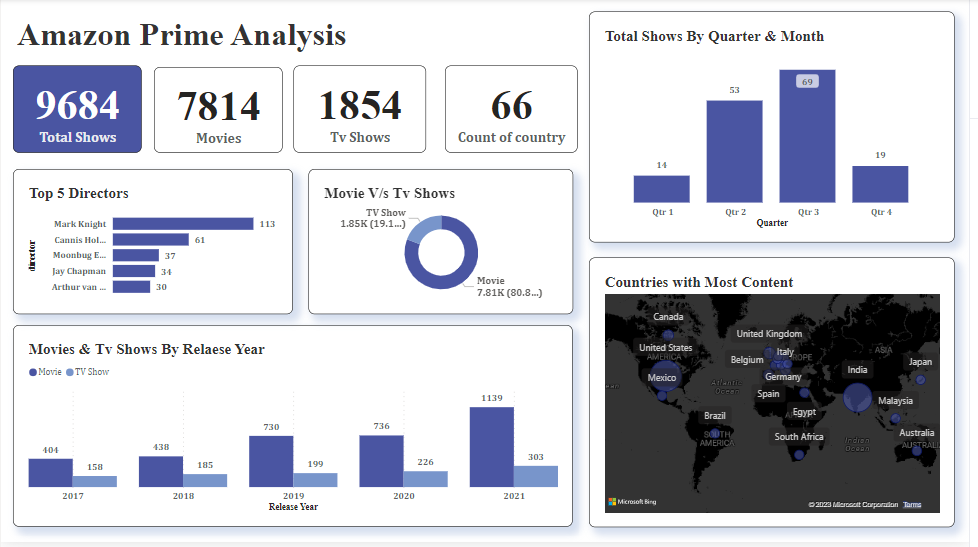

This screenshot's page, from the dashboard's own definition file:
{"tool":"powerbi","page":{"name":"1","canvas":[1280,720],"ordinal":0},"visuals":[{"type":"card","title":"Total Shows","fields":{"Values":["amazon_prime_titles.show_id"]},"box":[16.7,88.3,170,115],"z":0},{"type":"card","fields":{"Values":["amazon_prime_titles.type"]},"box":[201.7,91.7,170,113.3],"z":1000},{"type":"card","fields":{"Values":["amazon_prime_titles.type"]},"box":[386.7,90,175,115],"z":2000},{"type":"card","fields":{"Values":["amazon_prime_titles (2).country"]},"box":[586.7,90,175,115],"z":3000},{"type":"clusteredColumnChart","title":"Movies & Tv Shows By Relaese Year","fields":{"Category":["amazon_prime_titles.release_year"],"Y":["amazon_prime_titles.type"],"Series":["amazon_prime_titles.type"]},"box":[16.7,433.3,740,266.7],"z":4000},{"type":"lineClusteredColumnComboChart","title":"Total Shows By Quarter & Month","fields":{"Category":["amazon_prime_titles.date_added.Variation.Date Hierarchy.Quarter","amazon_prime_titles.date_added.Variation.Date Hierarchy.Month"],"Y":["amazon_prime_titles.show_id"]},"box":[778.3,18.3,483.3,305],"z":5000},{"type":"map","title":"Countries with Most Content","fields":{"Size":["amazon_prime_titles.show_id"],"Category":["amazon_prime_titles (2).country"]},"box":[778.3,343.3,483.3,356.7],"z":6000},{"type":"clusteredBarChart","title":"Top 5 Directors","fields":{"Y":["amazon_prime_titles.show_id"],"Category":["amazon_prime_titles.director"]},"box":[16.7,226.7,370,191.7],"z":7000},{"type":"donutChart","title":"Movie V/s Tv Shows","fields":{"Category":["amazon_prime_titles.type"],"Y":["amazon_prime_titles.show_id"]},"box":[406.7,226.7,350,191.7],"z":8000},{"type":"textbox","box":[16.7,18.3,526.7,70],"z":9000}]}

Visuals, with their boxes in screenshot pixels (x1, y1, x2, y2), scaled from the page's 1280x720 canvas onto the 978x547 screenshot:
"Total Shows" card: {"left": 13, "top": 67, "right": 143, "bottom": 154}
card - amazon_prime_titles.type: {"left": 154, "top": 70, "right": 284, "bottom": 156}
card - amazon_prime_titles.type: {"left": 295, "top": 68, "right": 429, "bottom": 156}
card - amazon_prime_titles (2).country: {"left": 448, "top": 68, "right": 582, "bottom": 156}
"Movies & Tv Shows By Relaese Year" clusteredColumnChart: {"left": 13, "top": 329, "right": 578, "bottom": 532}
"Total Shows By Quarter & Month" lineClusteredColumnComboChart: {"left": 595, "top": 14, "right": 964, "bottom": 246}
"Countries with Most Content" map: {"left": 595, "top": 261, "right": 964, "bottom": 532}
"Top 5 Directors" clusteredBarChart: {"left": 13, "top": 172, "right": 295, "bottom": 318}
"Movie V/s Tv Shows" donutChart: {"left": 311, "top": 172, "right": 578, "bottom": 318}
textbox: {"left": 13, "top": 14, "right": 415, "bottom": 67}
